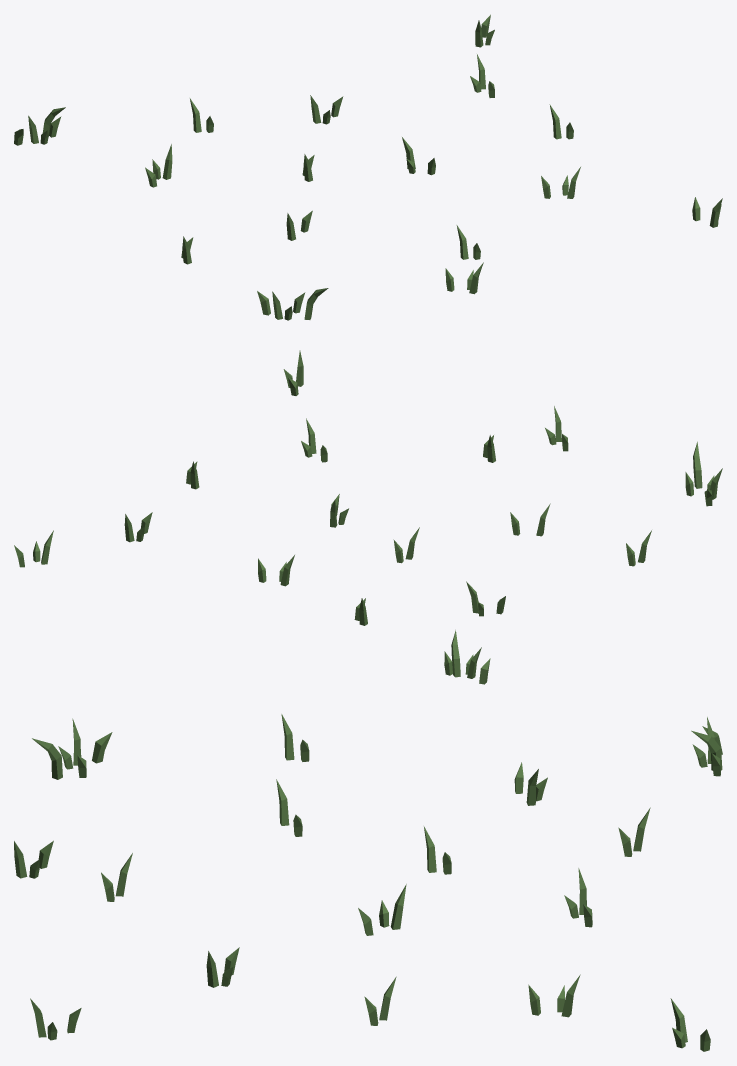
Rendered from SM_Env_Grass_Patch_04.fbx.
3 renders of one model, top to bottom at view 1: azimuth 30°, elevation 25°; view 2: azimuth 150°, elevation 25°; view 3: azimuth 270°, elevation 25°, orthographic. The views are drawn at different scales.
Parts seen in each view (by area): view 1: SM_Env_Grass_Patch_04; view 2: SM_Env_Grass_Patch_04; view 3: SM_Env_Grass_Patch_04.
Part boxes in pixels (x1,y1,x2,y2): SM_Env_Grass_Patch_04: (14, 14, 722, 320); SM_Env_Grass_Patch_04: (14, 350, 722, 684); SM_Env_Grass_Patch_04: (14, 714, 722, 1051).
Bounding box in the file's own units: 439 × 32.44 × 434.
